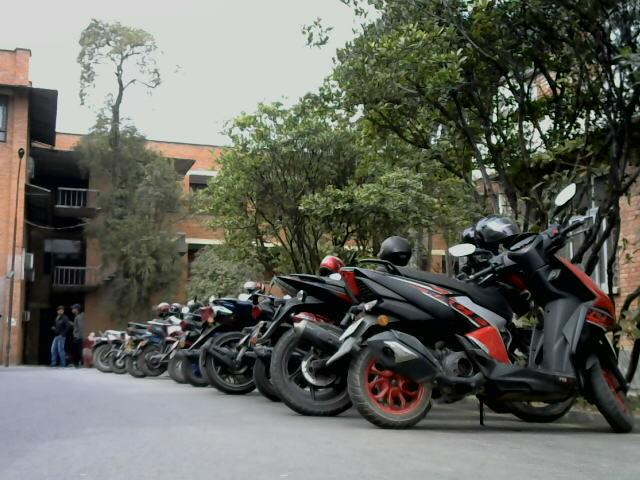Motorcycle: (338, 208, 640, 432), (268, 258, 344, 413)
Road: (10, 368, 299, 479)
Tree: (326, 0, 640, 179), (73, 11, 181, 303), (4, 142, 38, 375)
